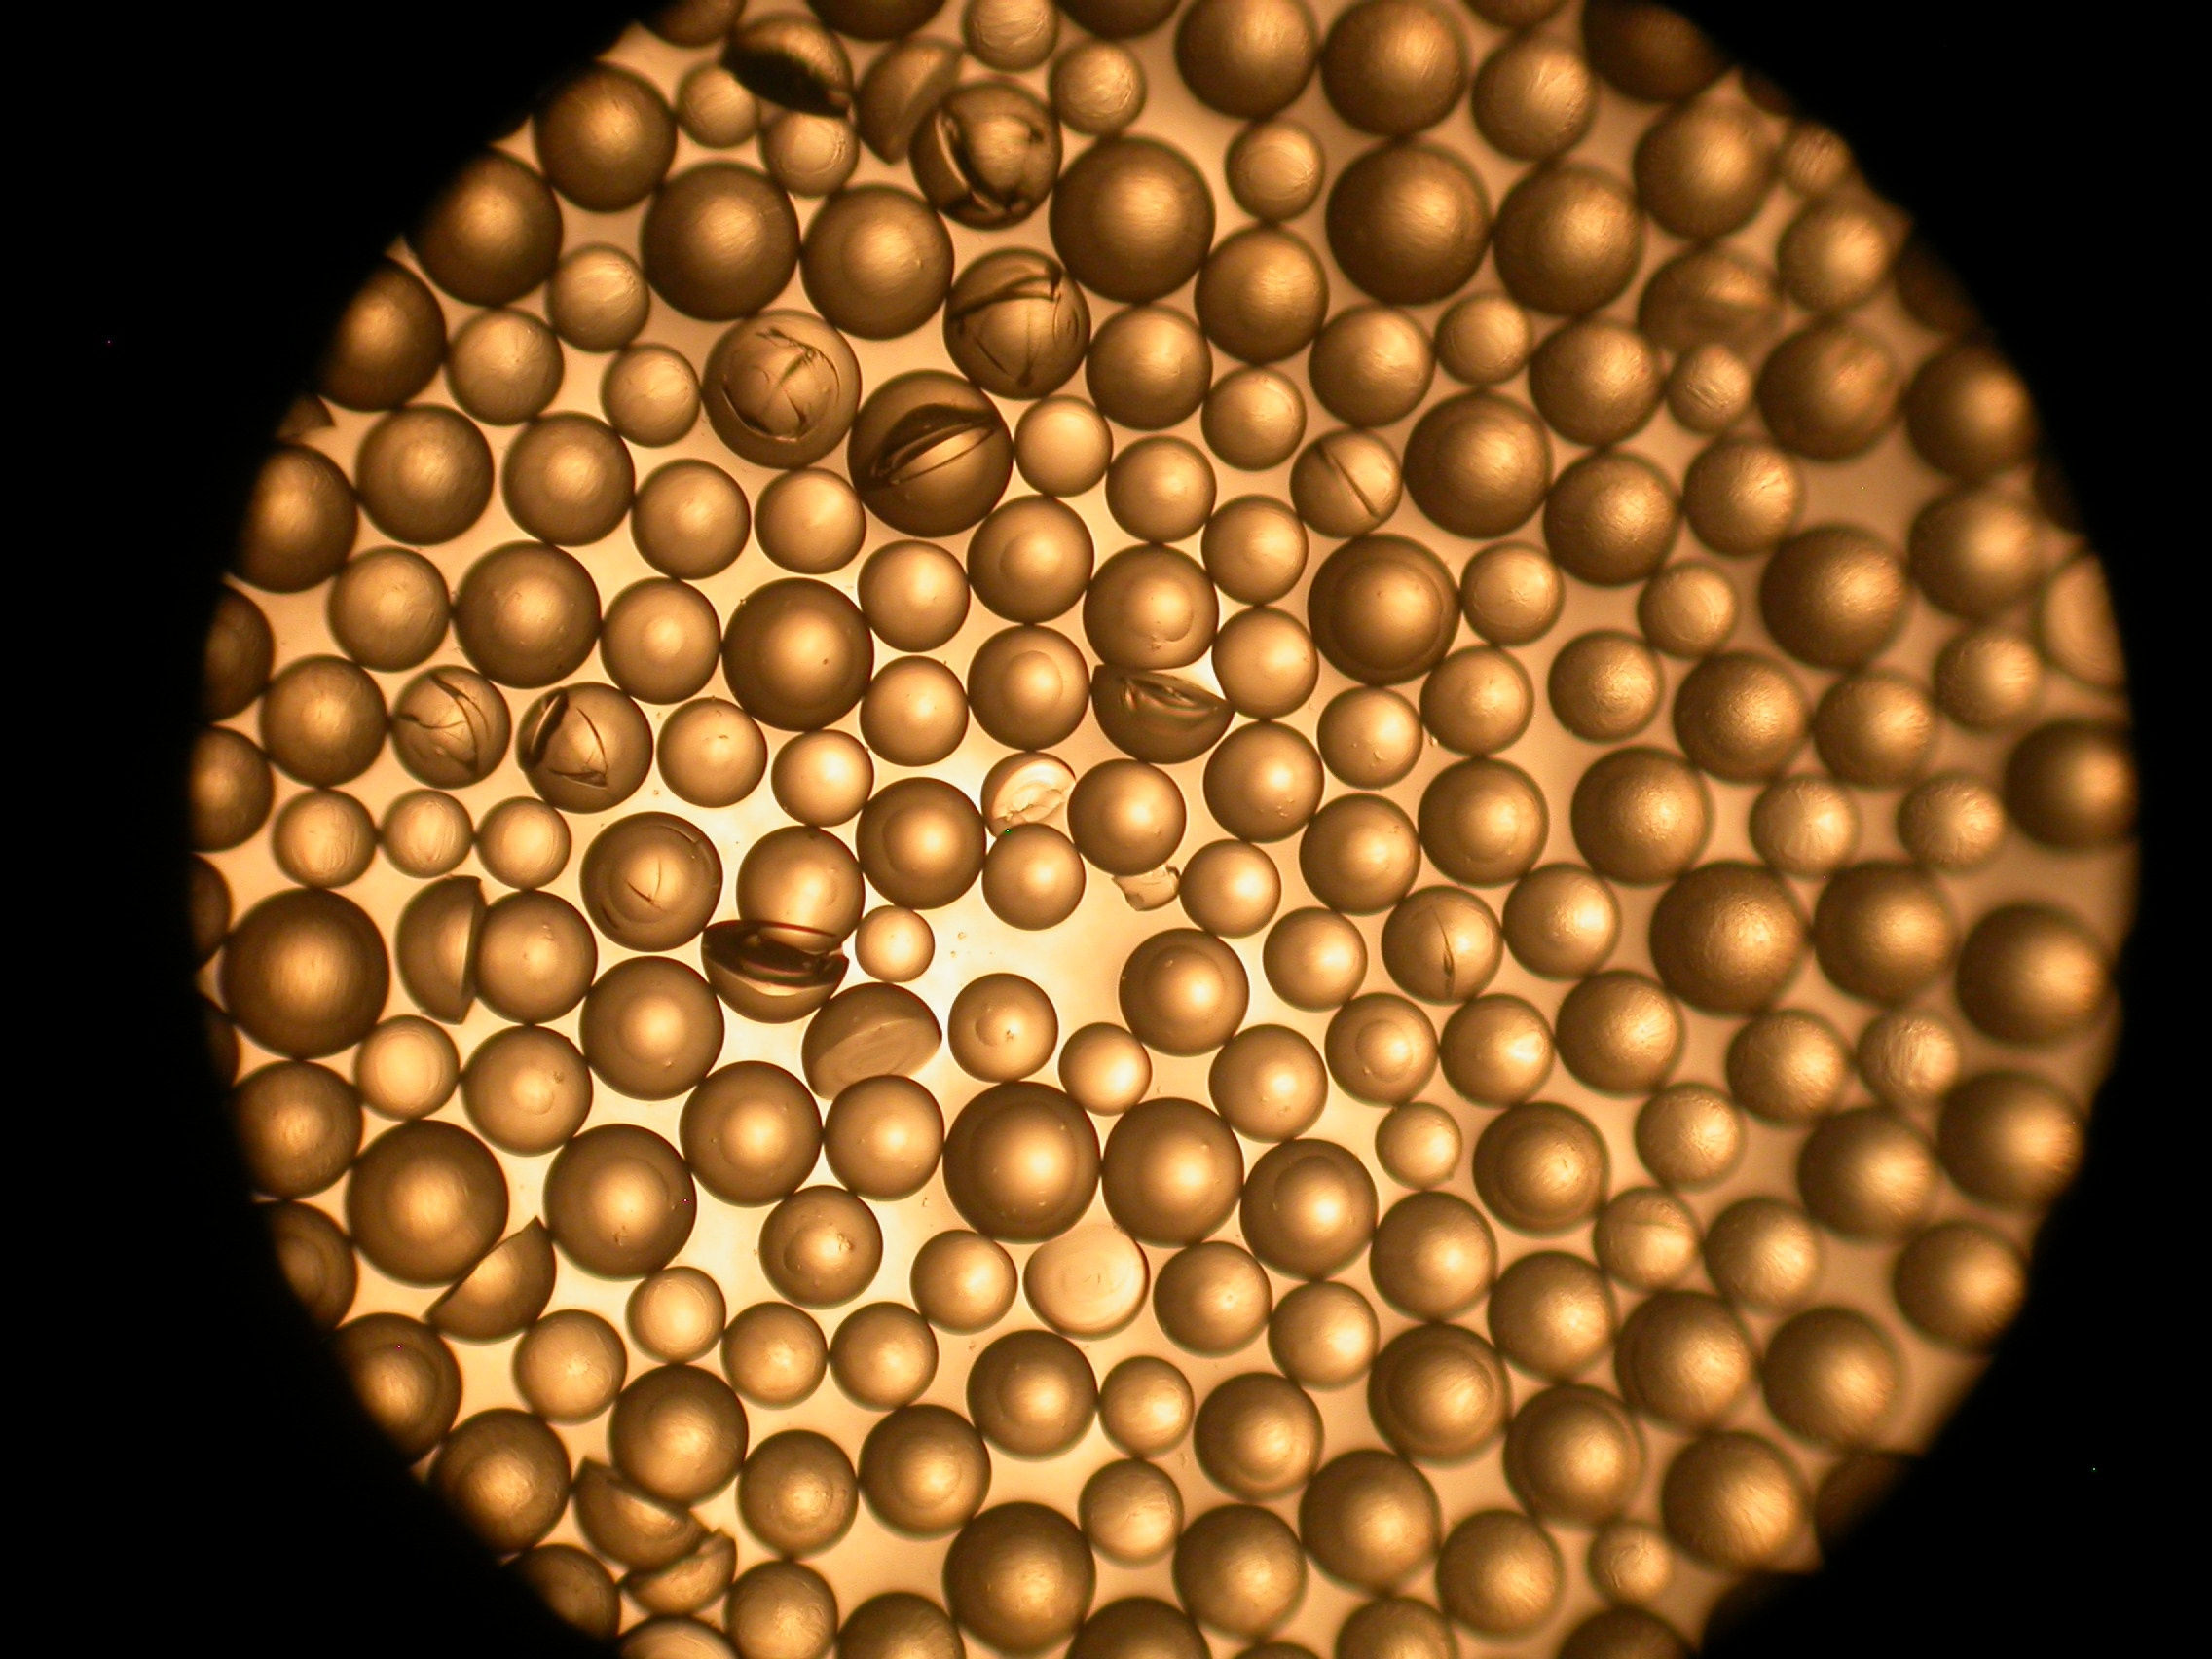destroyed_resin: (846, 368, 1014, 537), (700, 310, 864, 471), (913, 82, 1062, 234), (944, 251, 1092, 401), (580, 810, 725, 955), (517, 681, 655, 814), (803, 985, 944, 1098), (388, 666, 514, 791), (1639, 246, 1789, 350), (735, 824, 864, 945), (432, 1222, 554, 1345), (1381, 885, 1505, 1006), (702, 922, 846, 1025), (1089, 666, 1235, 765), (573, 1460, 707, 1567), (719, 12, 857, 115), (394, 873, 488, 1023), (855, 37, 963, 164), (1291, 427, 1402, 540), (2041, 551, 2127, 694), (624, 1528, 737, 1615), (981, 751, 1076, 833)
full_resin: (219, 889, 392, 1060), (345, 1121, 510, 1288), (1050, 138, 1217, 301), (1327, 143, 1493, 305), (942, 1080, 1101, 1246), (406, 146, 564, 307), (641, 162, 799, 322), (1649, 861, 1811, 1016), (543, 1122, 698, 1283), (799, 185, 956, 342), (719, 577, 873, 732), (942, 1502, 1099, 1654), (1308, 533, 1460, 685), (1494, 160, 1646, 312), (1404, 389, 1554, 540), (1959, 903, 2111, 1051), (453, 540, 601, 690), (1761, 525, 1912, 671), (1101, 1098, 1245, 1248), (535, 63, 676, 214), (580, 955, 725, 1101), (1299, 1450, 1444, 1596), (1367, 1323, 1514, 1466), (427, 1408, 573, 1551), (1662, 1436, 1808, 1579), (681, 1060, 822, 1208), (1813, 864, 1961, 1006), (1615, 1293, 1761, 1434), (1571, 746, 1712, 889), (608, 1364, 751, 1506), (1318, 2, 1468, 136), (226, 443, 359, 594), (1905, 338, 2047, 479), (1503, 1385, 1646, 1525), (1763, 1307, 1904, 1446), (1761, 321, 1902, 460), (357, 403, 495, 545), (319, 261, 448, 413), (1240, 1140, 1379, 1279), (1634, 103, 1773, 242), (1797, 1110, 1939, 1248), (336, 1314, 463, 1466), (1472, 1101, 1611, 1239), (1942, 1072, 2085, 1204), (1543, 451, 1681, 587), (502, 411, 637, 549), (1905, 488, 2048, 619), (857, 1405, 993, 1541), (1193, 227, 1329, 362), (1674, 652, 1813, 784), (1174, 1506, 1308, 1640), (2006, 721, 2142, 852), (462, 1025, 594, 1157), (1487, 1251, 1620, 1384), (258, 653, 388, 788), (1529, 315, 1665, 444), (1172, 2, 1318, 120), (1118, 927, 1251, 1058), (1418, 758, 1550, 889), (855, 777, 984, 911), (1083, 544, 1219, 671), (235, 1061, 361, 1199), (967, 1330, 1097, 1460), (1195, 1371, 1324, 1504), (474, 890, 599, 1026), (967, 495, 1096, 626), (1369, 1192, 1500, 1321), (1555, 969, 1684, 1096), (1895, 1222, 2026, 1347), (1472, 35, 1602, 160), (1435, 1511, 1564, 1636), (758, 1183, 885, 1309), (1085, 305, 1212, 430), (1308, 305, 1435, 430), (737, 1429, 860, 1558), (1298, 793, 1423, 918), (327, 545, 451, 673), (597, 579, 721, 704), (967, 626, 1089, 753), (1681, 436, 1808, 558), (824, 1075, 946, 1201), (1728, 1007, 1851, 1129), (1815, 667, 1939, 789), (631, 458, 752, 580), (1202, 721, 1324, 842), (1209, 1025, 1329, 1143), (444, 308, 564, 427), (1068, 758, 1186, 877), (1503, 864, 1622, 983), (1153, 1241, 1273, 1358), (1705, 1197, 1825, 1312), (512, 1309, 629, 1425), (1548, 629, 1665, 744), (1439, 993, 1555, 1108), (1324, 992, 1437, 1108), (1778, 200, 1892, 317), (1420, 645, 1534, 758), (857, 540, 970, 653), (948, 972, 1061, 1084), (657, 695, 766, 809), (1268, 1281, 1381, 1391), (829, 1300, 939, 1413), (1632, 1082, 1747, 1190), (1747, 772, 1864, 878), (1211, 606, 1318, 720), (754, 467, 867, 575), (1200, 495, 1308, 606), (860, 657, 968, 767), (719, 1300, 827, 1410), (1106, 437, 1216, 545), (1895, 772, 2010, 875), (911, 1229, 1019, 1337), (1932, 626, 2045, 728), (1263, 906, 1369, 1014), (1315, 685, 1423, 791), (1460, 540, 1566, 648), (1076, 1459, 1183, 1567), (350, 1012, 460, 1117), (725, 1560, 840, 1659), (1202, 366, 1308, 472), (1594, 1187, 1702, 1291), (545, 244, 650, 352), (186, 725, 273, 854), (1858, 1007, 1965, 1112), (984, 823, 1085, 932), (273, 789, 378, 890), (601, 343, 702, 446), (1014, 396, 1115, 498), (1226, 120, 1327, 223), (1177, 840, 1282, 939), (1637, 559, 1742, 659), (772, 728, 874, 828), (625, 1267, 728, 1364), (1099, 1356, 1195, 1459), (1045, 38, 1148, 134), (1435, 291, 1533, 389), (1064, 1596, 1212, 1659), (475, 798, 573, 890), (834, 1593, 967, 1659), (1059, 1023, 1151, 1115), (1588, 1518, 1679, 1612), (761, 108, 859, 195), (1665, 343, 1756, 434), (381, 789, 472, 878), (1332, 1596, 1460, 1659), (1374, 1101, 1463, 1190), (676, 63, 761, 146), (961, 2, 1059, 71), (853, 906, 935, 983), (1777, 120, 1855, 195)
